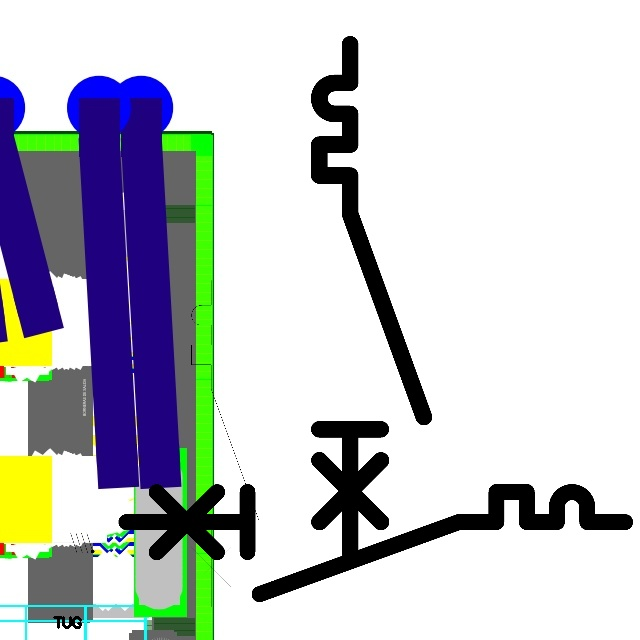interruptor_termomagnetico: (306, 31, 437, 566), (113, 479, 637, 607), (183, 272, 267, 615)
